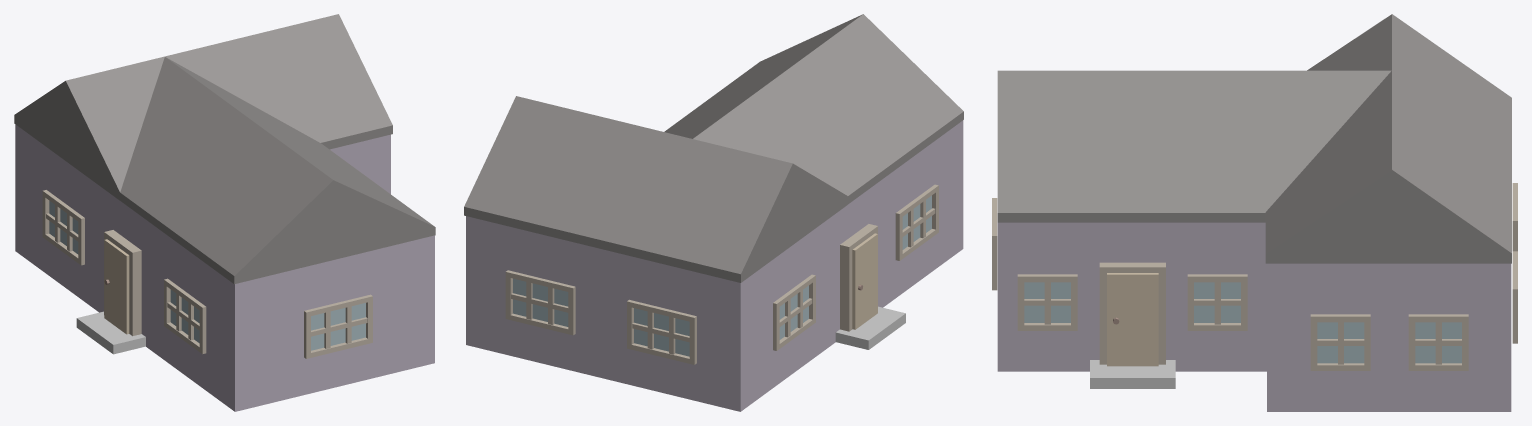
File: house09.fbx
3 renders of one model, left to right at view 1: azimuth 30°, elevation 25°; view 2: azimuth 150°, elevation 25°; view 3: azimuth 270°, elevation 25°, orthographic. The views are drawn at different scales.
Parts seen in each view (by area): view 1: house03, roof05, roof06, door9 (×3), pPlane2 (×3), doorCentre, door17 (×3), doorFrame, step; view 2: house03, roof06, roof05, door9 (×4), pPlane2 (×4), door17 (×4), doorCentre, step, doorFrame; view 3: house03, roof05, roof06, door5 (×4), pPlane1 (×4), doorCentre, door14 (×4), doorFrame, step, door9 (×2).
Part boxes in pixels (x1=…): house03: x1=15, y1=124, x2=434, y2=411; roof05: x1=120, y1=57, x2=435, y2=284; roof06: x1=14, y1=14, x2=392, y2=200; door9 (×3): x1=42, y1=190, x2=372, y2=358; pPlane2 (×3): x1=49, y1=201, x2=365, y2=350; doorCentre: x1=104, y1=239, x2=129, y2=334; door17 (×3): x1=46, y1=205, x2=367, y2=348; doorFrame: x1=104, y1=230, x2=141, y2=336; step: x1=76, y1=311, x2=145, y2=354; house03: x1=466, y1=120, x2=963, y2=411; roof06: x1=464, y1=96, x2=847, y2=282; roof05: x1=664, y1=14, x2=963, y2=204; door9 (×4): x1=505, y1=184, x2=938, y2=364; pPlane2 (×4): x1=513, y1=195, x2=931, y2=356; door17 (×4): x1=511, y1=200, x2=935, y2=354; doorCentre: x1=852, y1=233, x2=877, y2=329; step: x1=835, y1=306, x2=905, y2=349; doorFrame: x1=840, y1=224, x2=877, y2=331; house03: x1=997, y1=222, x2=1511, y2=411; roof05: x1=997, y1=70, x2=1391, y2=222; roof06: x1=1265, y1=14, x2=1511, y2=263; door5 (×4): x1=1017, y1=274, x2=1468, y2=370; pPlane1 (×4): x1=1024, y1=282, x2=1461, y2=363; doorCentre: x1=1107, y1=273, x2=1158, y2=366; door14 (×4): x1=1024, y1=282, x2=1461, y2=364; doorFrame: x1=1099, y1=262, x2=1165, y2=364; step: x1=1090, y1=360, x2=1175, y2=388; door9 (×2): x1=992, y1=198, x2=1517, y2=343.
Bounding box in the file's own units: 5.34 × 3.44 × 6.75.
